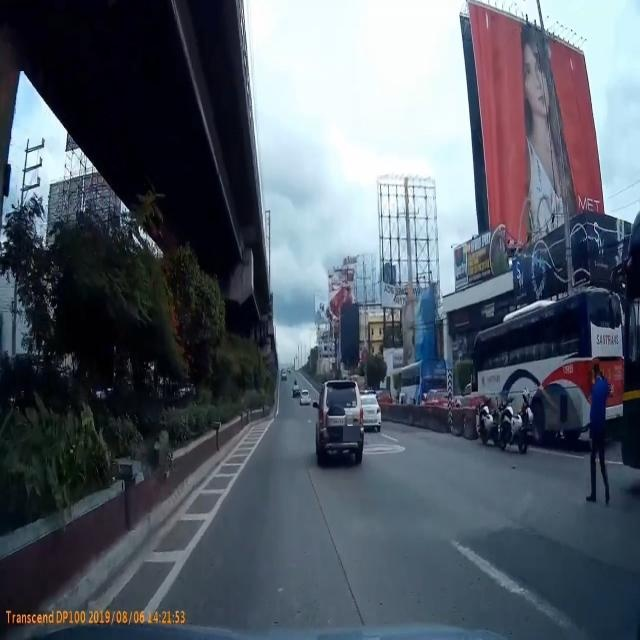bus: (463, 306, 627, 458), (380, 359, 450, 422)
car: (316, 374, 368, 476), (356, 389, 384, 431), (301, 388, 313, 407)
motorcycle: (497, 390, 539, 475), (471, 397, 504, 450)
